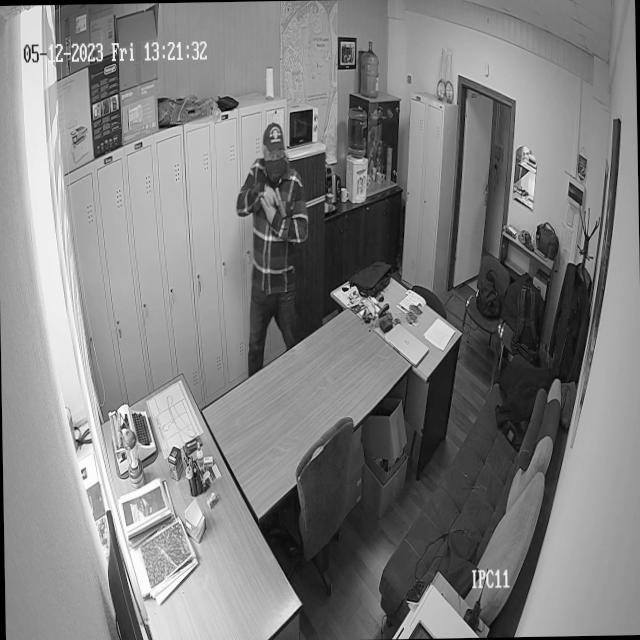gun: (273, 176, 290, 222)
person with a gun: (238, 112, 318, 378)
